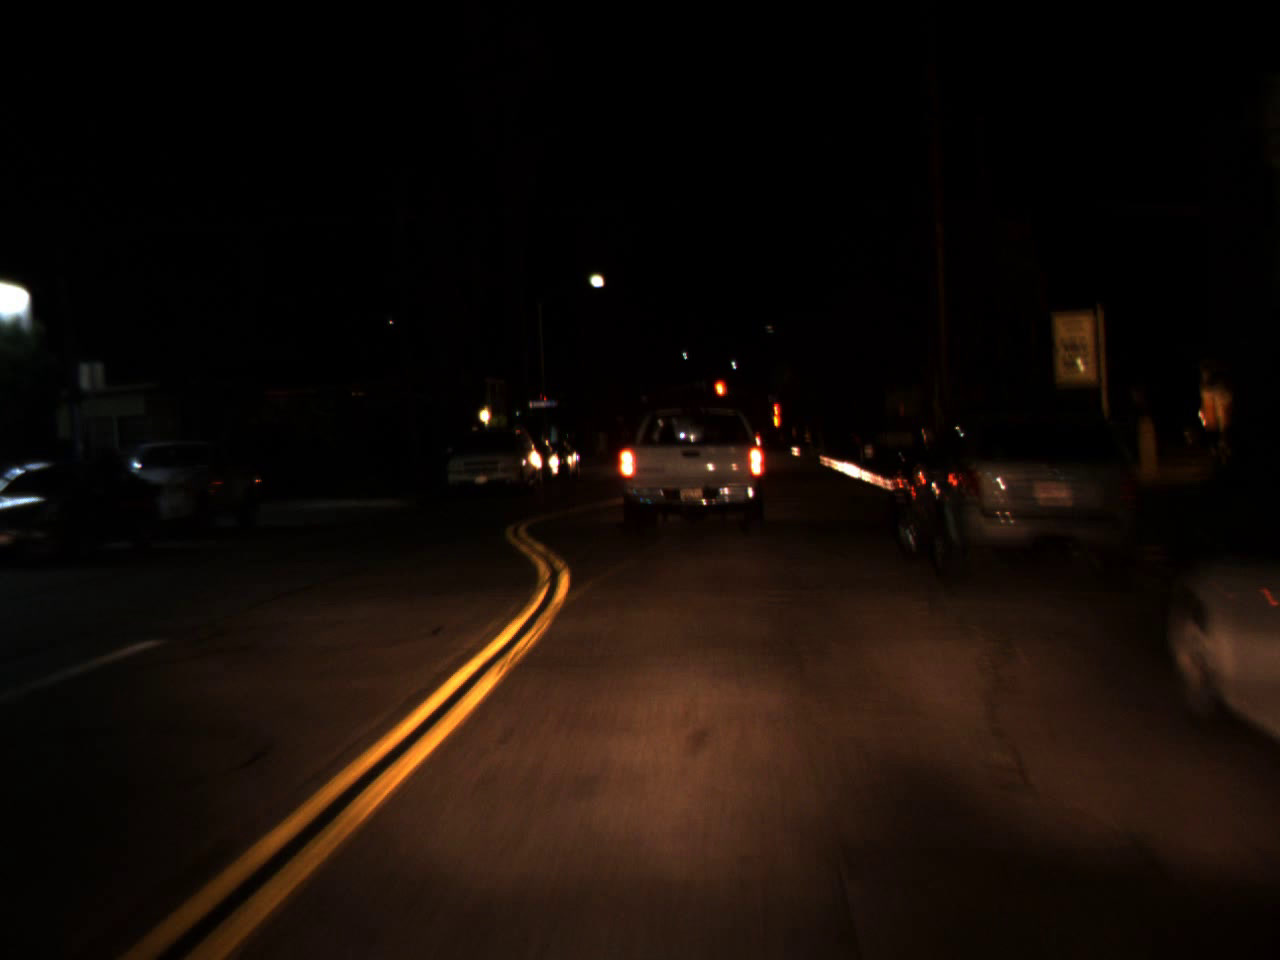stop: (712, 378, 727, 413), (768, 399, 783, 426)
